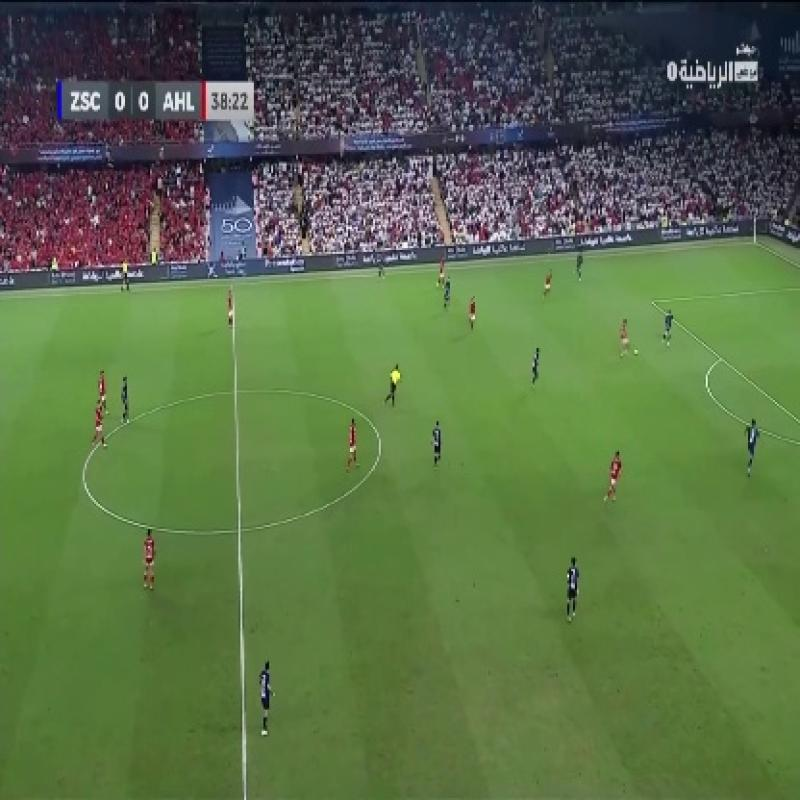1: (744, 235, 762, 248)
10: (712, 348, 726, 366)
13: (224, 273, 242, 294)
14: (221, 377, 248, 406)
15: (225, 512, 250, 544)
9: (644, 290, 658, 308)
c: (364, 420, 392, 472), (64, 458, 99, 499)
